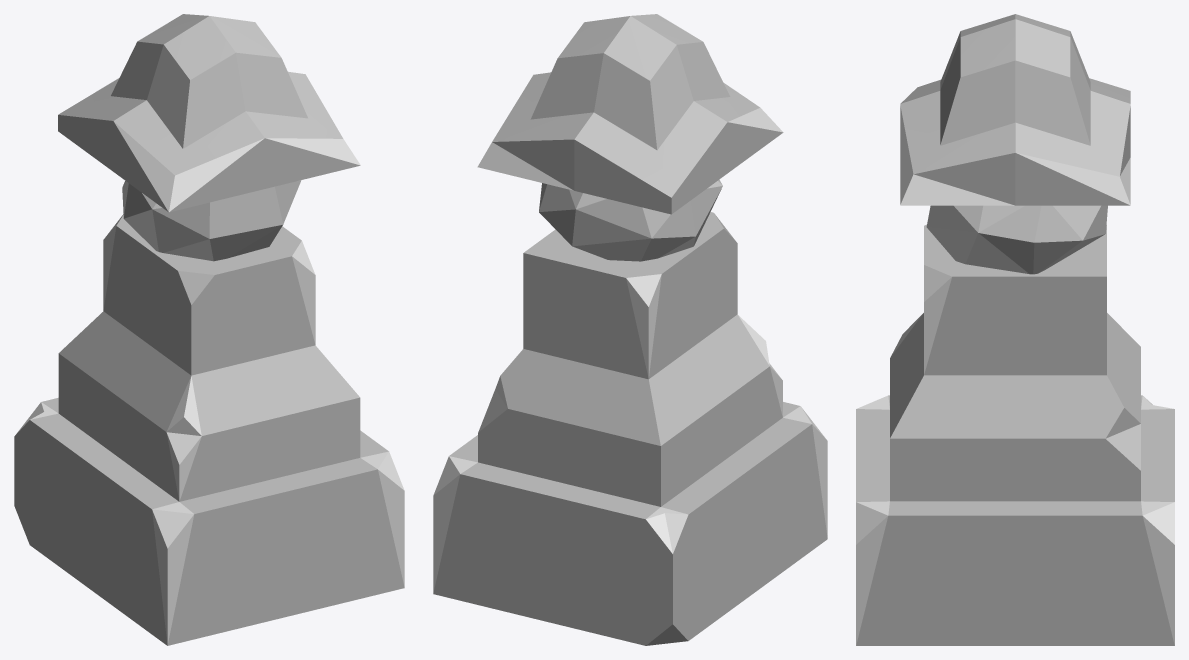
Rendered from stone_5.fbx.
3 renders of one model, left to right at view 1: azimuth 30°, elevation 25°; view 2: azimuth 150°, elevation 25°; view 3: azimuth 270°, elevation 25°, orthographic. The views are drawn at different scales.
Parts seen in each view (by area): view 1: stone_5; view 2: stone_5; view 3: stone_5.
Boxes of the visible parts, bbox=[...] form: stone_5: bbox=[14, 14, 404, 645]; stone_5: bbox=[433, 14, 827, 645]; stone_5: bbox=[856, 14, 1174, 645].
Bounding box in the file's own units: 206 × 453 × 231.
